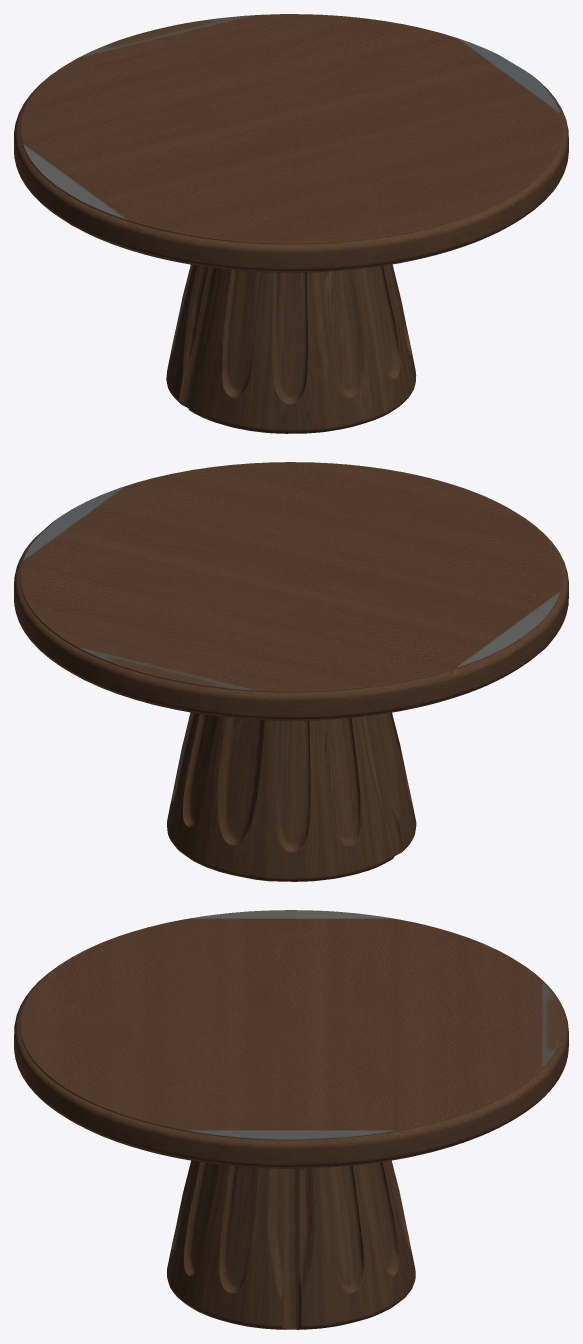
File: Meshy_AI_me_puedes_crear_una_m_1005182839_texture.fbx
The picture shows the model from 3 angles, top to bottom: view 1: azimuth 30°, elevation 25°; view 2: azimuth 150°, elevation 25°; view 3: azimuth 270°, elevation 25°; orthographic projection.
Parts seen in each view (by area): view 1: Mesh_0; view 2: Mesh_0; view 3: Mesh_0.
Boxes of the visible parts, x1=… form: Mesh_0: x1=14, y1=14, x2=568, y2=433; Mesh_0: x1=14, y1=462, x2=568, y2=881; Mesh_0: x1=14, y1=910, x2=568, y2=1329.
Bounding box in the file's own units: 88.83 × 45 × 88.83.
1 material, 1 textured.
